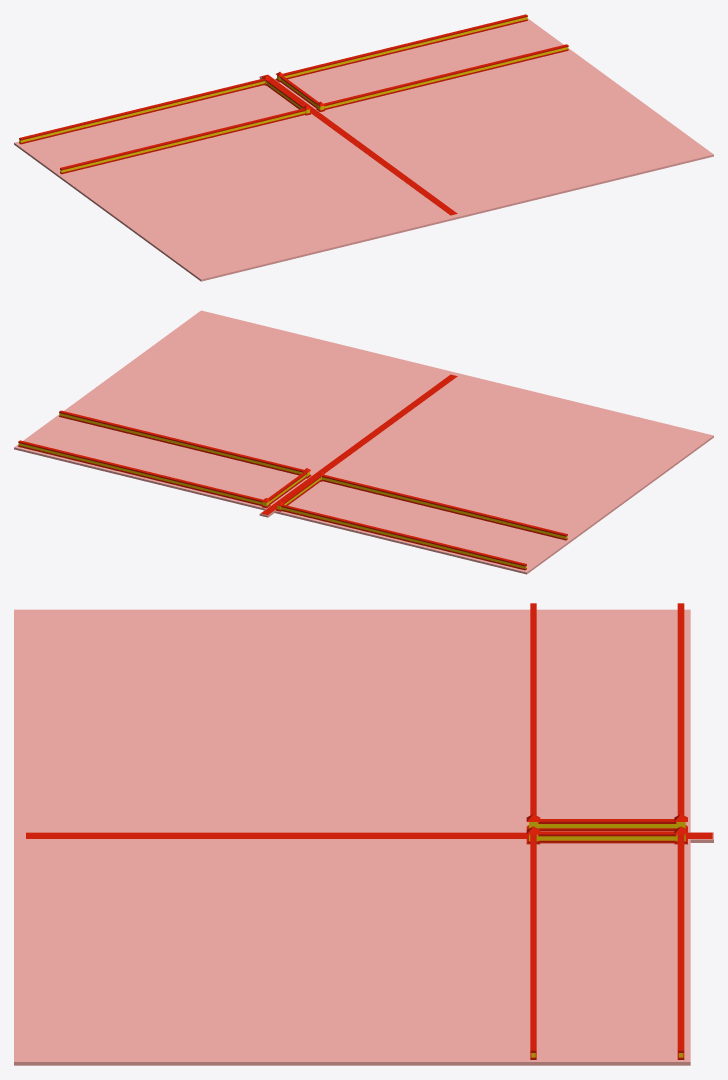
File: WorldHellTerrain.glb
The picture shows the model from 3 angles, top to bottom: view 1: azimuth 30°, elevation 25°; view 2: azimuth 150°, elevation 25°; view 3: azimuth 270°, elevation 25°; orthographic projection. The views are drawn at different scales.
Visible parts, largest first — view 1: Ground, Wall 4.001, Wall 4, Wall 3, Wall 3.001, Floor; view 2: Ground, Wall 4.001, Wall 4, Wall 3.001, Wall 3, Floor; view 3: Ground, Floor, Wall 3.001, Wall 2, Wall 4.001, Wall 1, Wall 3, Wall 4.
Boxes of the visible parts, x1,y1,x2,y2 form: Ground: (14,18,713,281); Wall 4.001: (19,78,264,144); Wall 4: (60,108,305,174); Wall 3: (323,44,568,109); Wall 3.001: (283,14,527,79); Floor: (261,75,457,215); Ground: (14,310,713,574); Wall 4.001: (281,504,526,570); Wall 4: (322,474,567,540); Wall 3.001: (18,440,263,505); Wall 3: (59,410,303,475); Floor: (261,374,457,515); Ground: (14,609,690,1065); Floor: (26,832,712,838); Wall 3.001: (677,834,684,1059); Wall 2: (538,831,676,843); Wall 4.001: (677,603,684,815); Wall 1: (538,819,676,830); Wall 3: (530,834,536,1059); Wall 4: (530,603,536,815).
Size of the model in its own units: 410 by 8.1 by 268.
